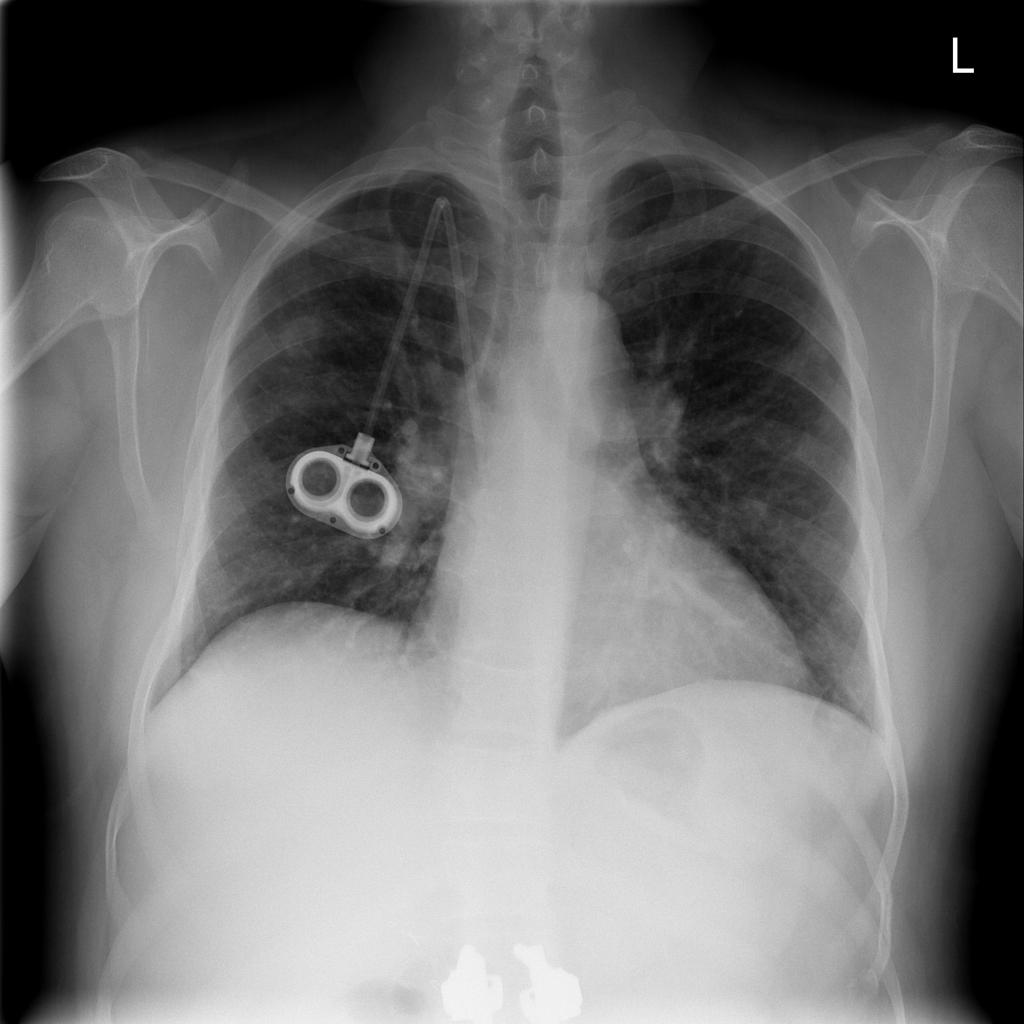nodule: (264, 300, 342, 373)
